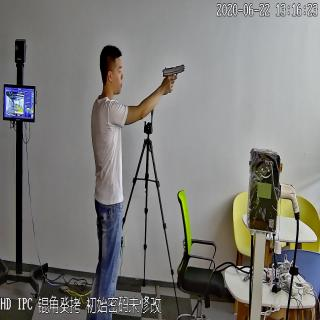gun: (162, 60, 186, 97)
